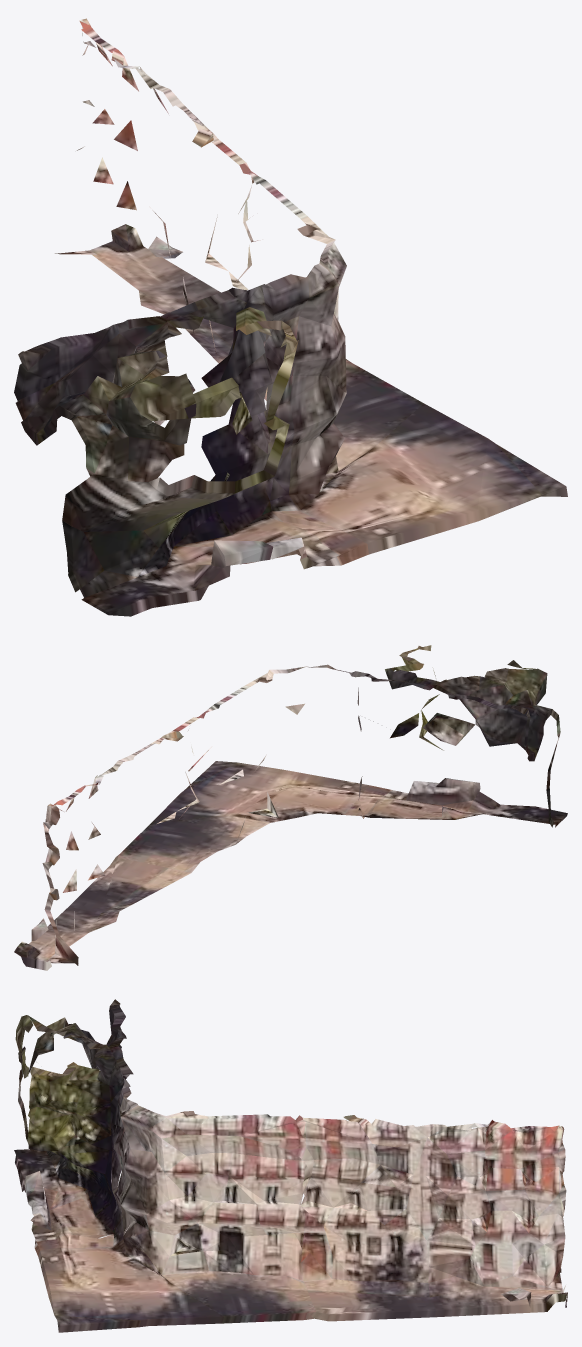
3 views of the same model, one above another, from view 1: azimuth 30°, elevation 25°; view 2: azimuth 150°, elevation 25°; view 3: azimuth 270°, elevation 25° (orthographic). The views are drawn at different scales.
Visible parts, largest first — view 1: Mesh_0; view 2: Mesh_0; view 3: Mesh_0.
Part boxes in pixels (left/top/right/bottom): Mesh_0: left=14, top=18, right=567, bottom=616; Mesh_0: left=14, top=645, right=567, bottom=970; Mesh_0: left=14, top=999, right=567, bottom=1332.
Size of the model in its own units: 29.89 by 14.19 by 41.21.
Materials: 1 (1 with a texture image).
